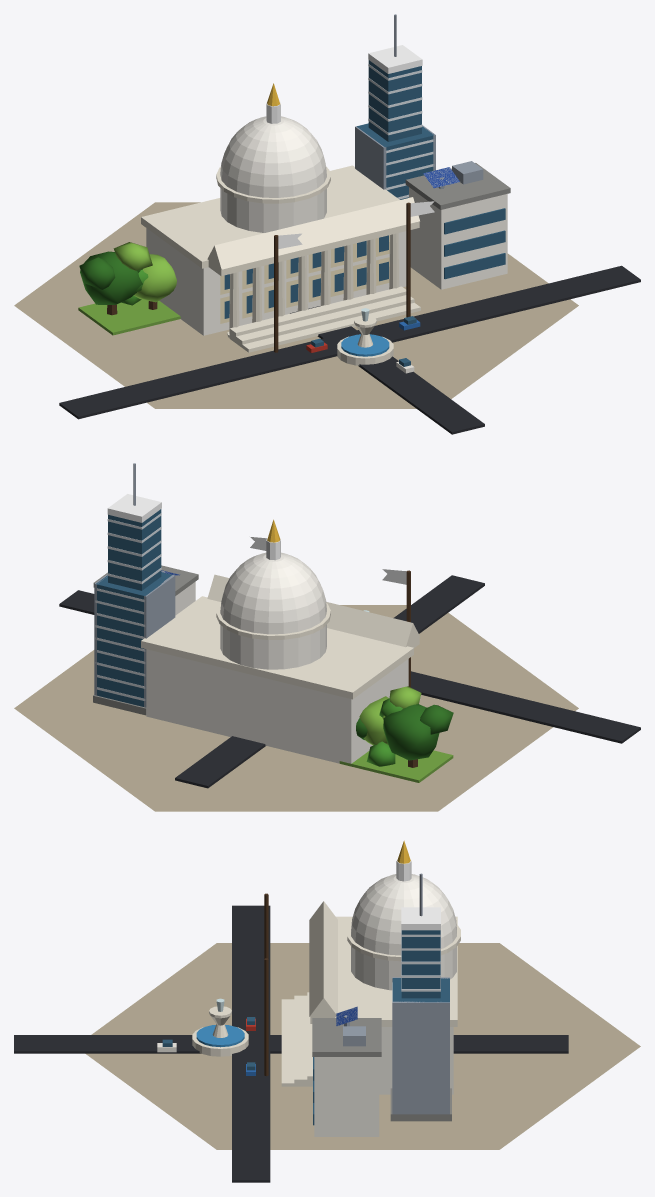
The model's file is capital_3_2.fbx.
3 views of the same model, one above another, from view 1: azimuth 30°, elevation 25°; view 2: azimuth 150°, elevation 25°; view 3: azimuth 270°, elevation 25° (orthographic).
Parts seen in each view (by area): view 1: capital_3_2; view 2: capital_3_2; view 3: capital_3_2.
Part boxes in pixels (x1,y1,x2,y2): capital_3_2: [14, 14, 640, 434]; capital_3_2: [14, 463, 640, 811]; capital_3_2: [14, 840, 640, 1182].
Bounding box in the file's own units: 241 × 96.71 × 233.
